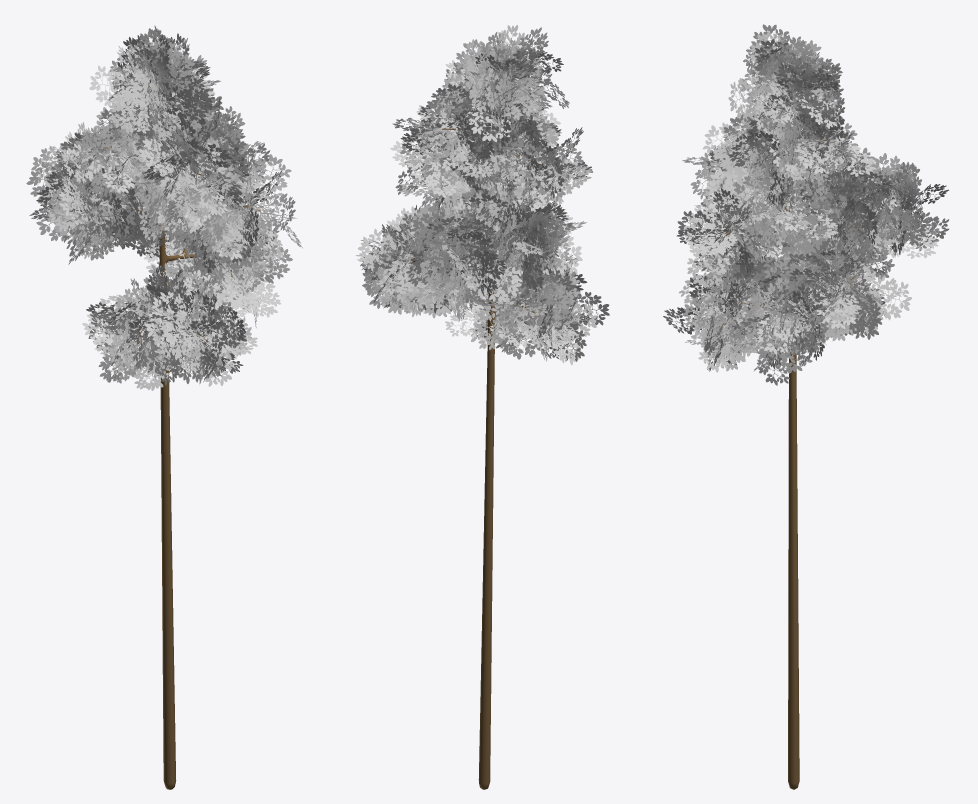
Rendered from Trees_01.fbx.
3 renders of one model, left to right at view 1: azimuth 30°, elevation 25°; view 2: azimuth 150°, elevation 25°; view 3: azimuth 270°, elevation 25°, orthographic. The views are drawn at different scales.
Parts seen in each view (by area): view 1: Cube; view 2: Cube; view 3: Cube.
Part boxes in pixels (x1,y1,x2,y2): Cube: (26, 25, 302, 789); Cube: (356, 25, 609, 789); Cube: (663, 24, 949, 789).
Bounding box in the file's own units: 1024 × 3103 × 1161.
